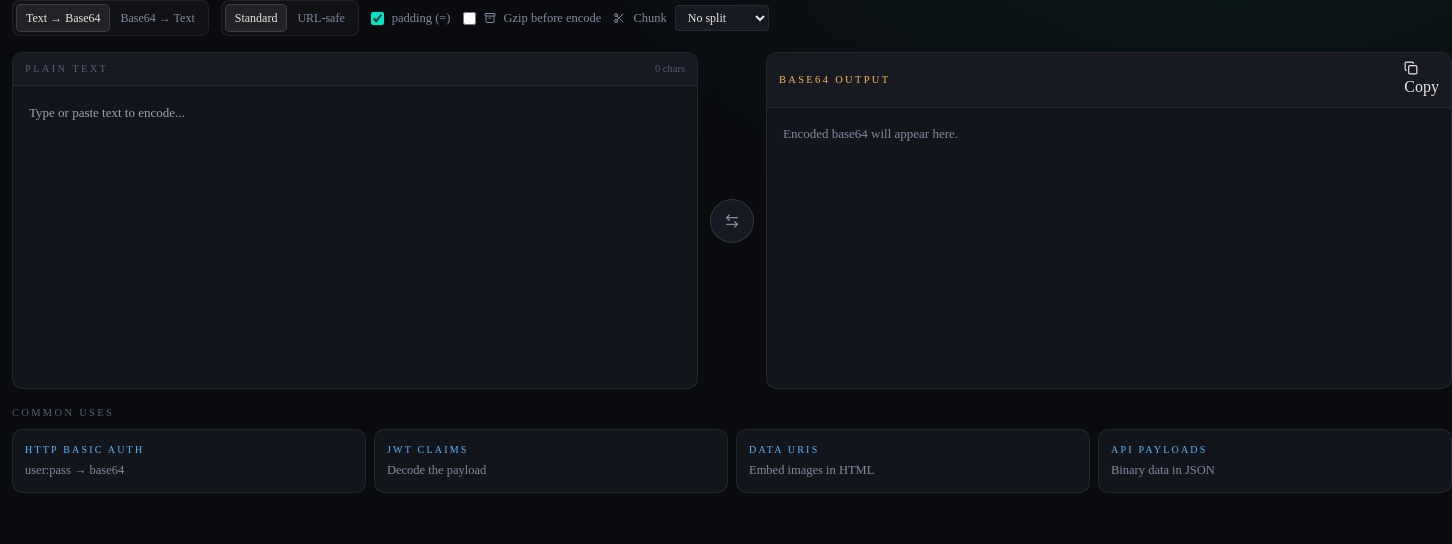
TextTab switches › decodes both alphabets regardless of the selected encoding variant
Step 1. Click the button "Base64 → Text" → click(158, 18), box [110,4,205,32]
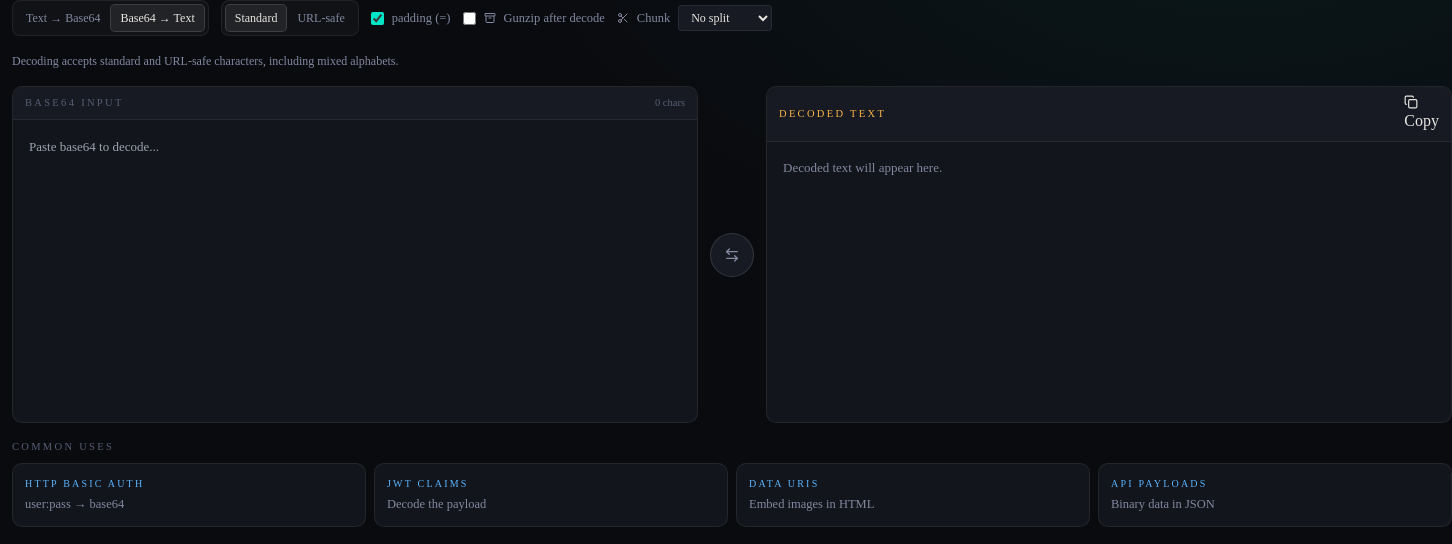
Result: the text "Decoding accepts standard and URL-safe characters, including mixed alphabets" is shown at [12,54,398,68]
Step 2. Click the button "URL-safe" → click(321, 18), box [287,4,355,32]
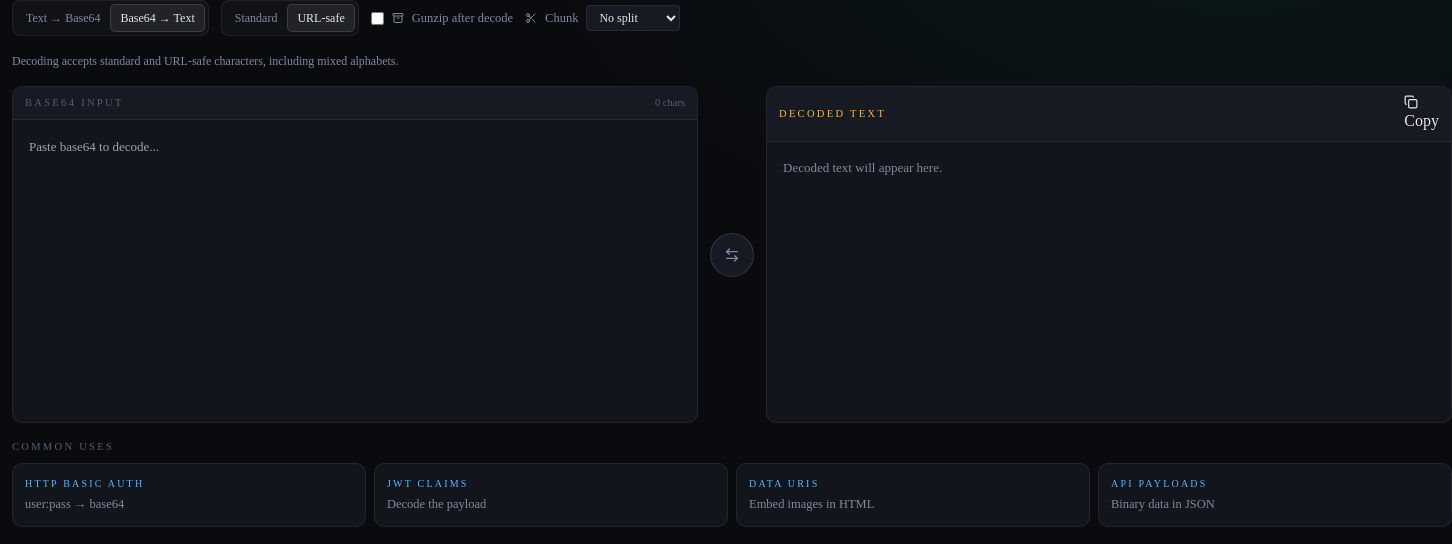
Step 3. Type "SGVsbG8=" into the text box labelled "base64 to decode" → (355, 271), box [13,120,697,422]
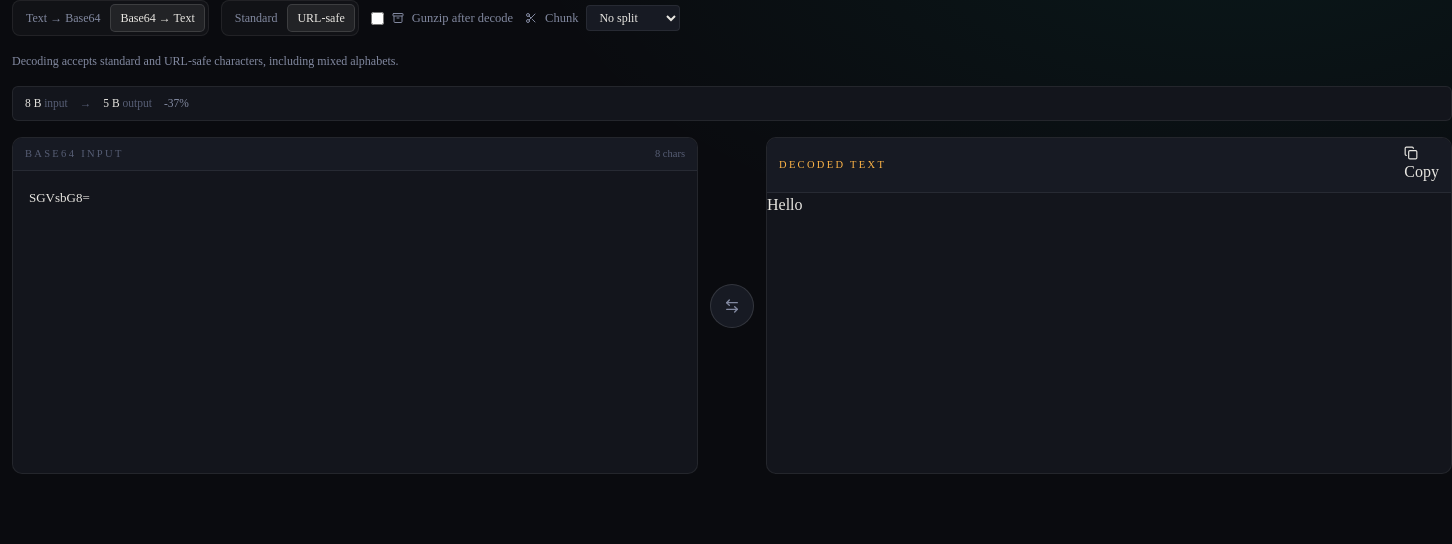
Result: the text "Hello" is shown at [767,196,802,213]
Step 4. Click the button "Standard" → click(256, 18), box [225,4,288,32]
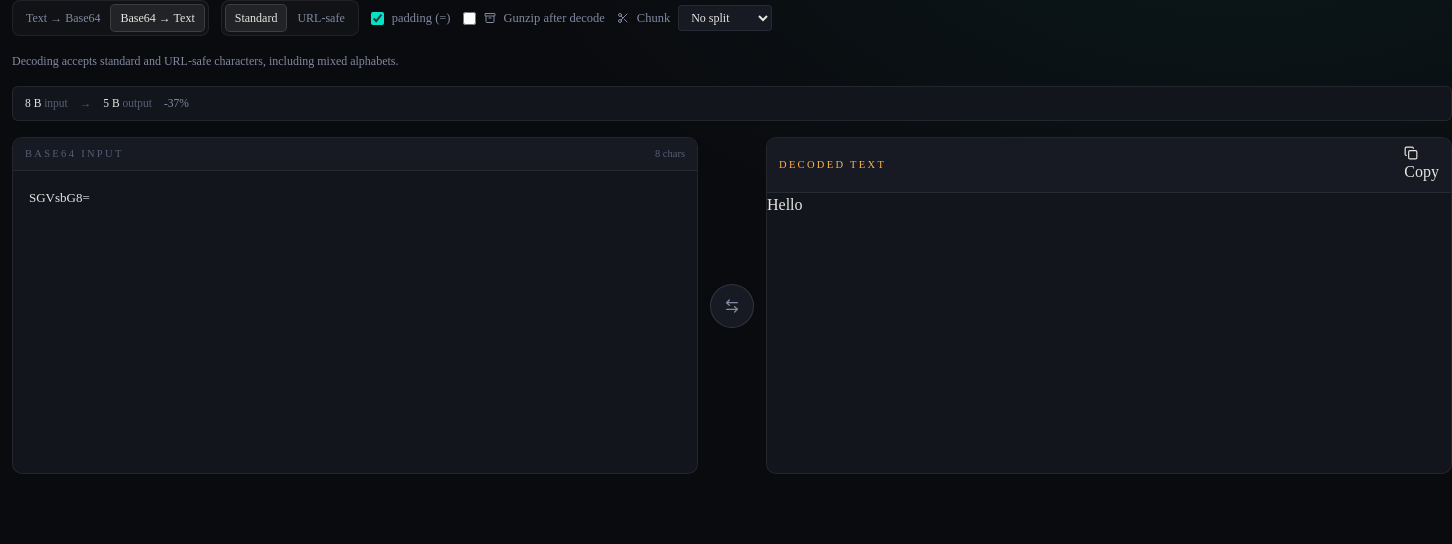
Step 5. Replace the text in the text box named "base64 to decode" with "8J-YgA" → (355, 322), box [13,171,697,473]
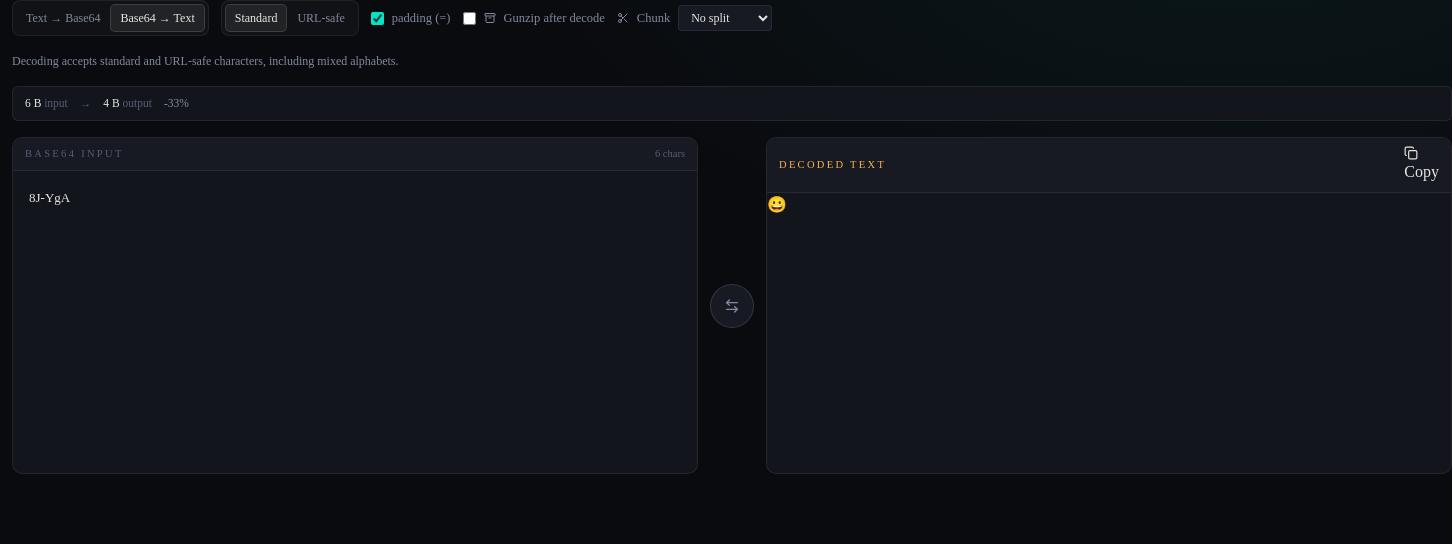
Result: the text "😀" is shown at [767,196,787,213]
